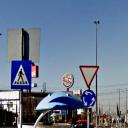preferencia: (76, 64, 100, 87)
